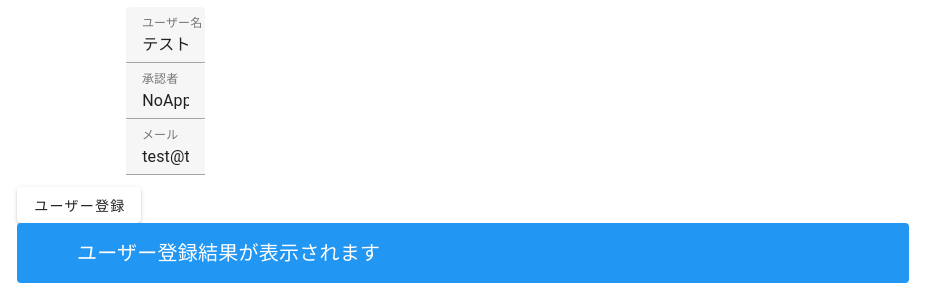
Scenario: index.vue add user success › ユーザー追加処理のフロントテスト
Click the button with id "addButton".
click(79, 205)  # box [17,187,142,223]
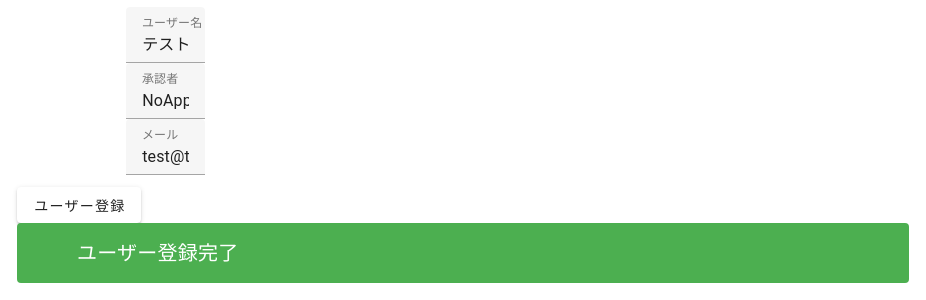
expect the message "ユーザー登録完了" is shown: met, box [17,223,909,283]
expect the message with id "addUserAlert" reads "ユーザー登録完了": met, box [77,241,239,265]
